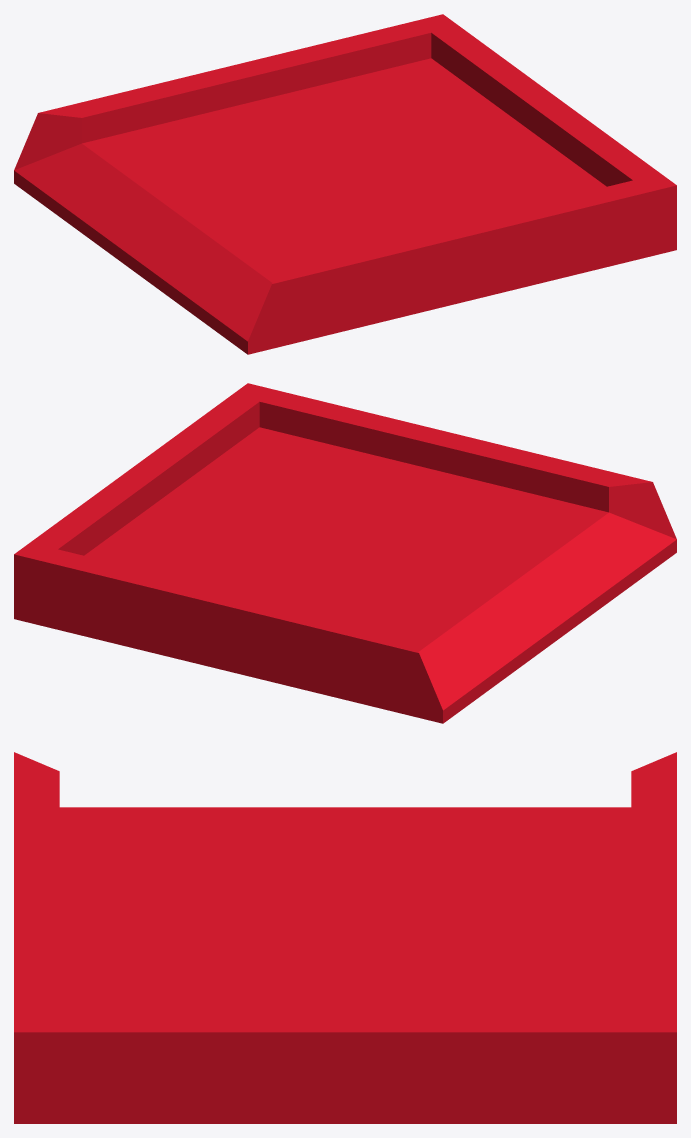
3 views of the same model, one above another, from view 1: azimuth 30°, elevation 25°; view 2: azimuth 150°, elevation 25°; view 3: azimuth 270°, elevation 25° (orthographic). The views are drawn at different scales.
Parts seen in each view (by area): view 1: Plane 1; view 2: Plane 1; view 3: Plane 1.
Boxes of the visible parts, box(x1,y1,x2,y2) form: Plane 1: box(14, 14, 676, 354); Plane 1: box(14, 383, 676, 723); Plane 1: box(14, 752, 676, 1123).
Size of the model in its own units: 233 by 33.66 by 220.
